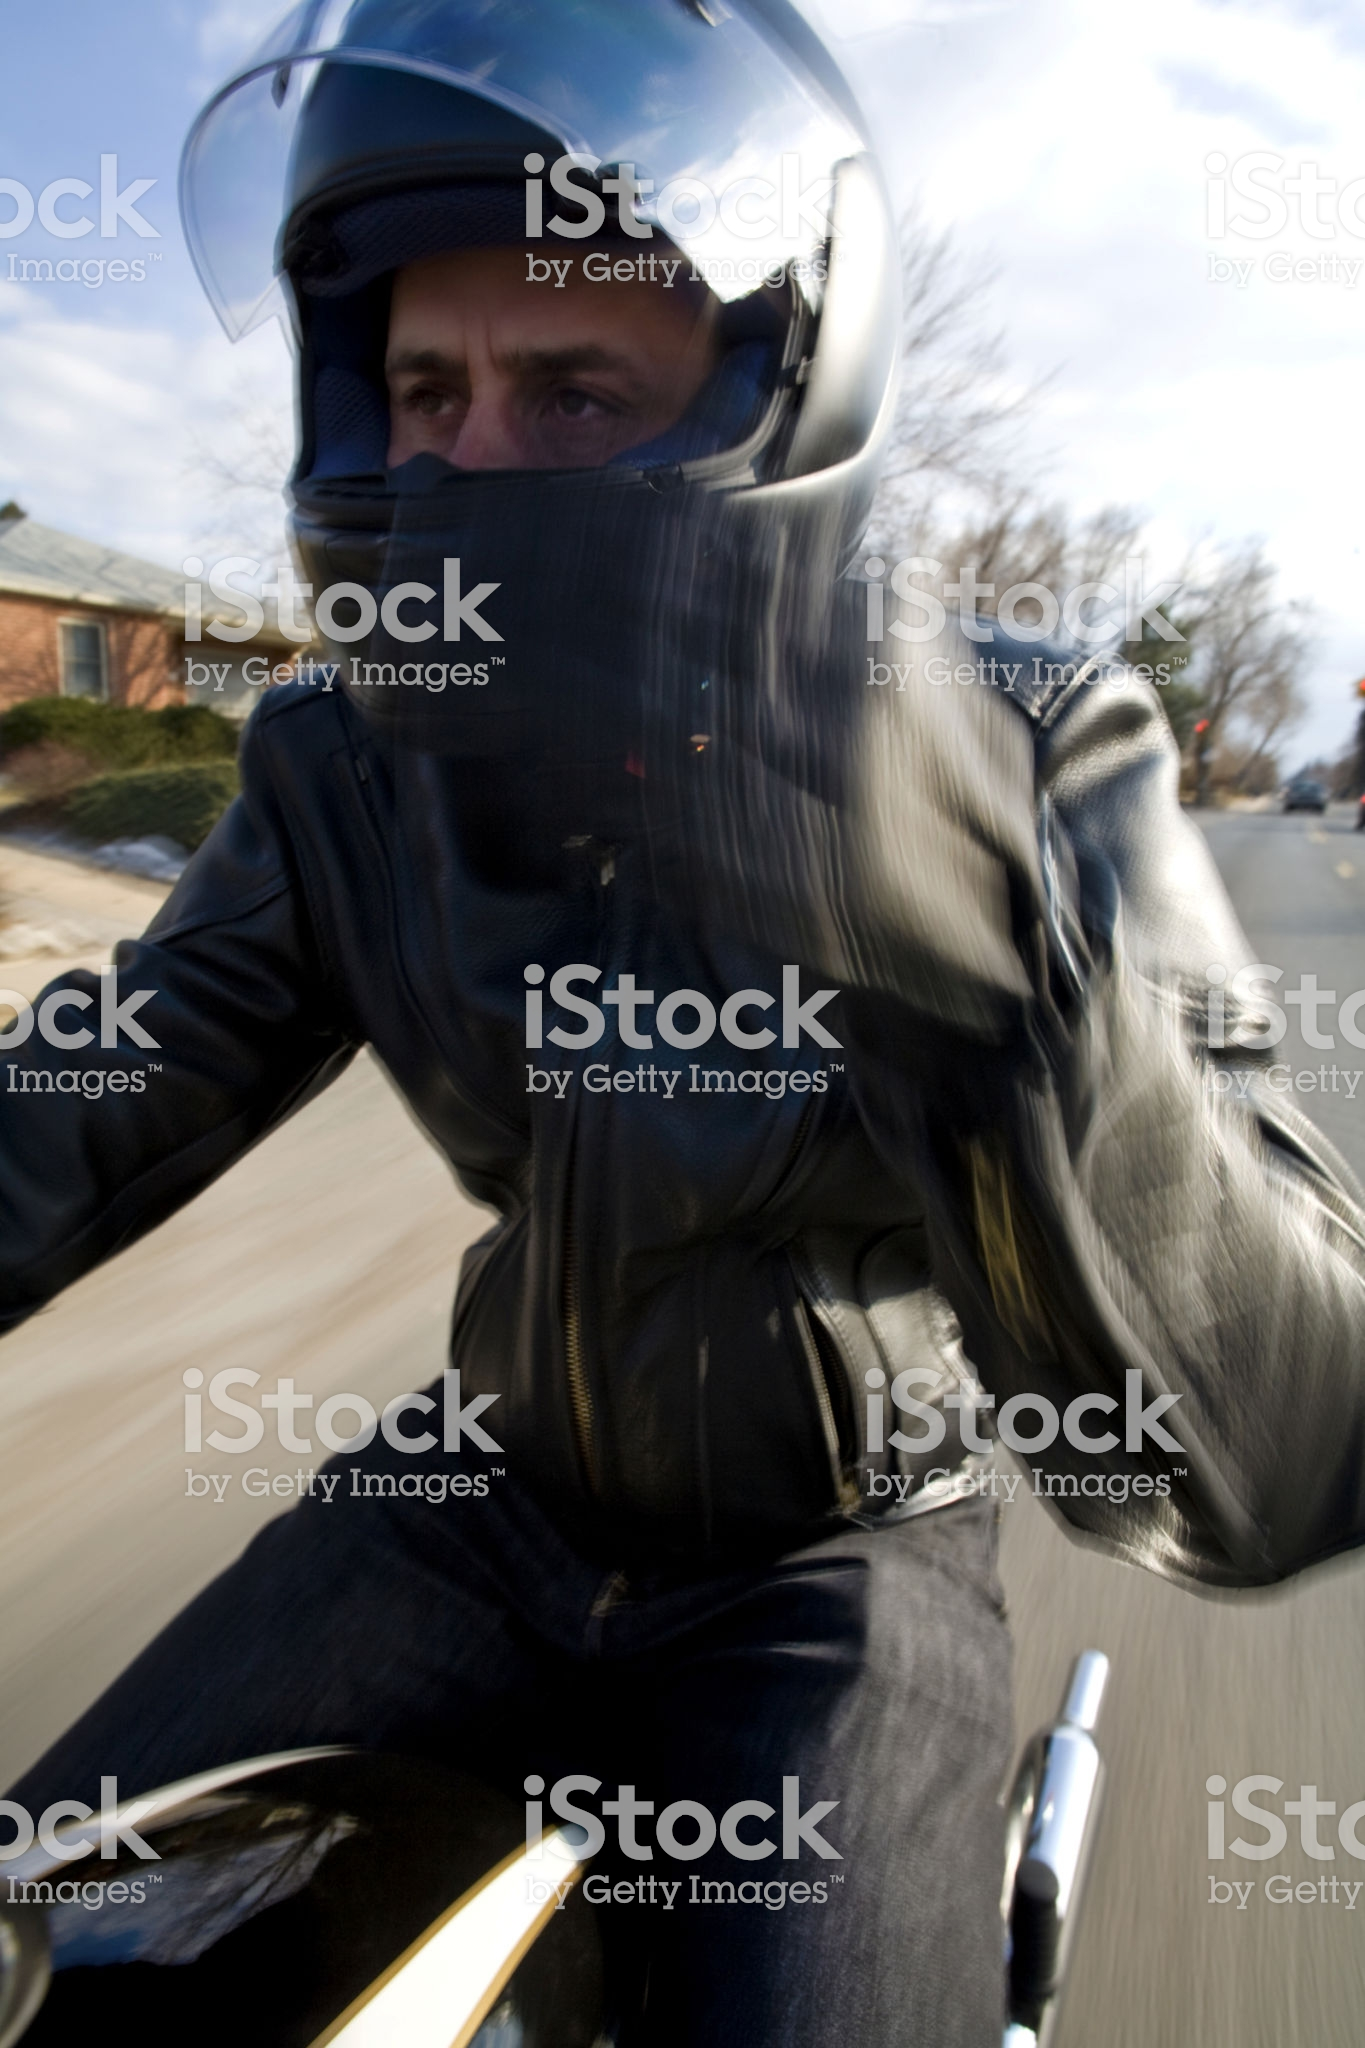helmet: (192, 11, 970, 644)
